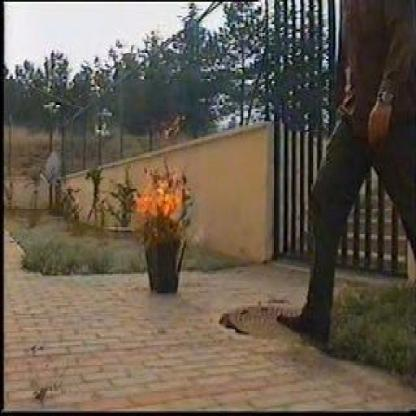foggia-v2-map80-epoch100 - v1 4323: (132, 188, 180, 216)
